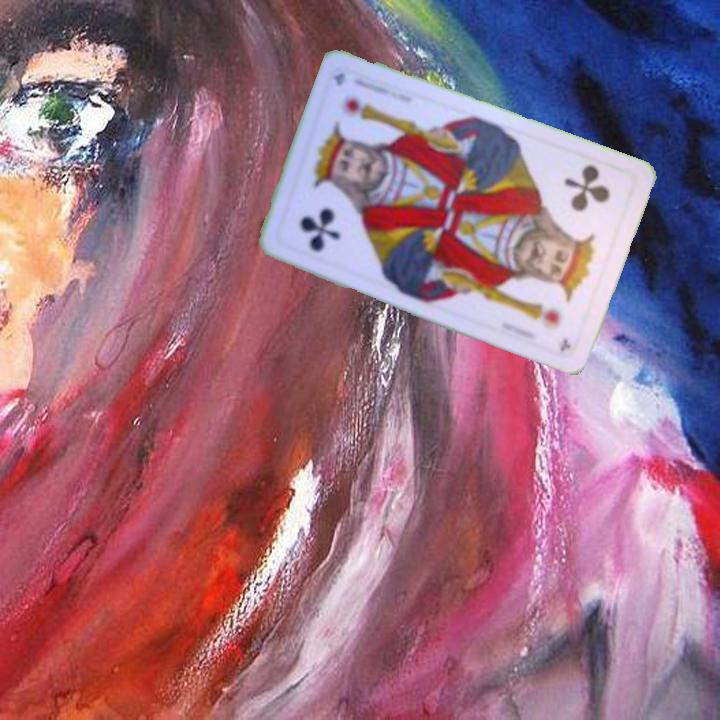c_k.png: (525, 147, 639, 269), (272, 153, 385, 275)
